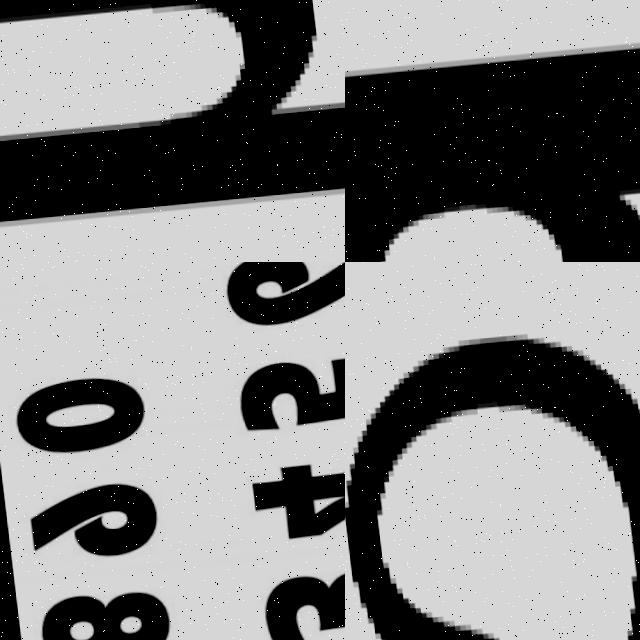0: (0, 368, 152, 460)
3: (240, 559, 345, 640)
4: (221, 457, 345, 555)
5: (345, 302, 640, 640), (213, 350, 345, 441)
6: (208, 262, 345, 336)
8: (21, 582, 176, 640)
9: (1, 479, 156, 567)
D: (345, 33, 640, 262)
H: (0, 0, 345, 244)
